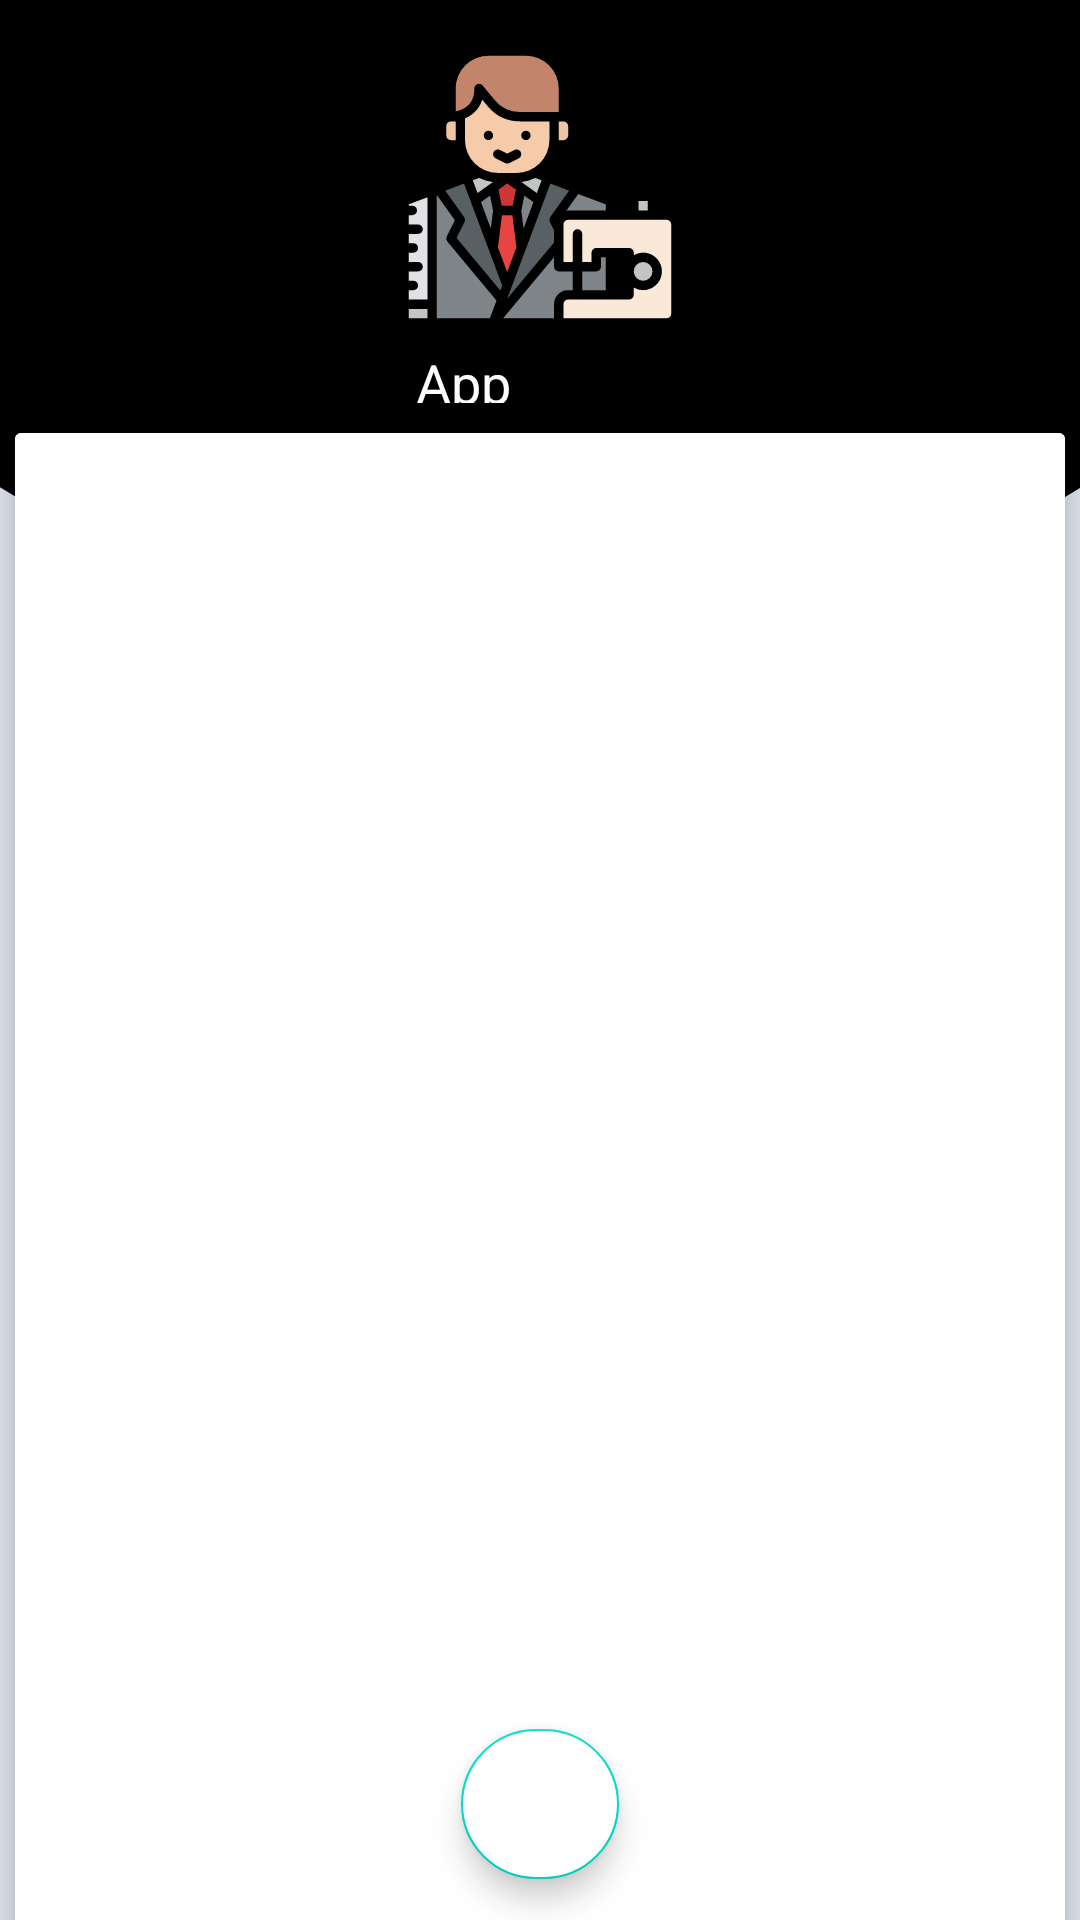

Screen size 1080*1920. Icon name, then its center in pixels as (x,y):
tailor: (540,187)
